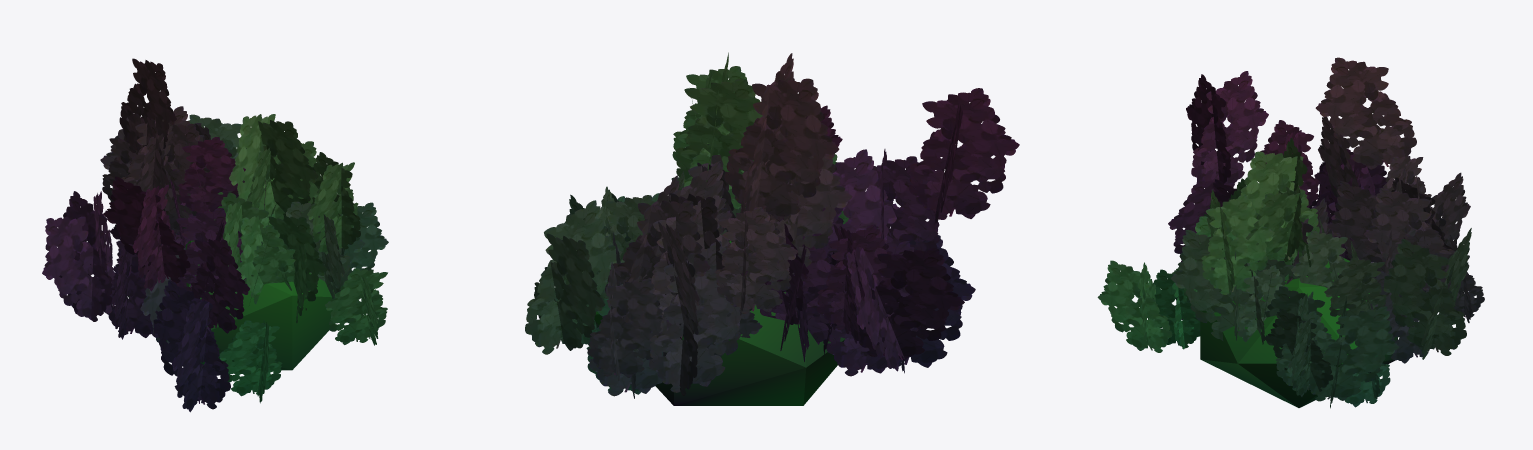
File: nat_bush_green_a_LOD1.glb
The picture shows the model from 3 angles, left to right: view 1: azimuth 30°, elevation 25°; view 2: azimuth 150°, elevation 25°; view 3: azimuth 270°, elevation 25°; orthographic projection. The views are drawn at different scales.
Parts seen in each view (by area): view 1: geometry_0; view 2: geometry_0; view 3: geometry_0.
Boxes of the visible parts, <box> form: geometry_0: <box>42,58,388,412</box>; geometry_0: <box>525,52,1019,405</box>; geometry_0: <box>1097,57,1484,408</box>.
Size of the model in its own units: 1.37 by 1.05 by 1.38.
1 material, 1 textured.
